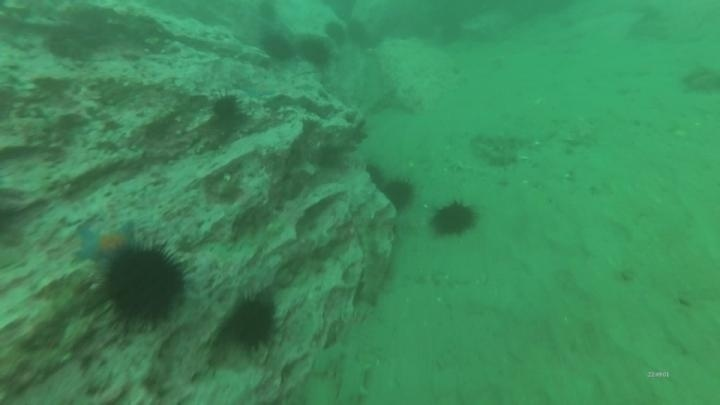echinus: (100, 241, 190, 331), (225, 291, 281, 353), (428, 198, 480, 241), (379, 176, 418, 213), (208, 91, 245, 128), (297, 34, 334, 70), (258, 30, 296, 64), (362, 160, 390, 192), (322, 19, 350, 49)
holothurian: (352, 209, 398, 310), (321, 347, 375, 405), (469, 127, 531, 162)
starfish: (73, 219, 141, 269), (239, 77, 280, 101)
